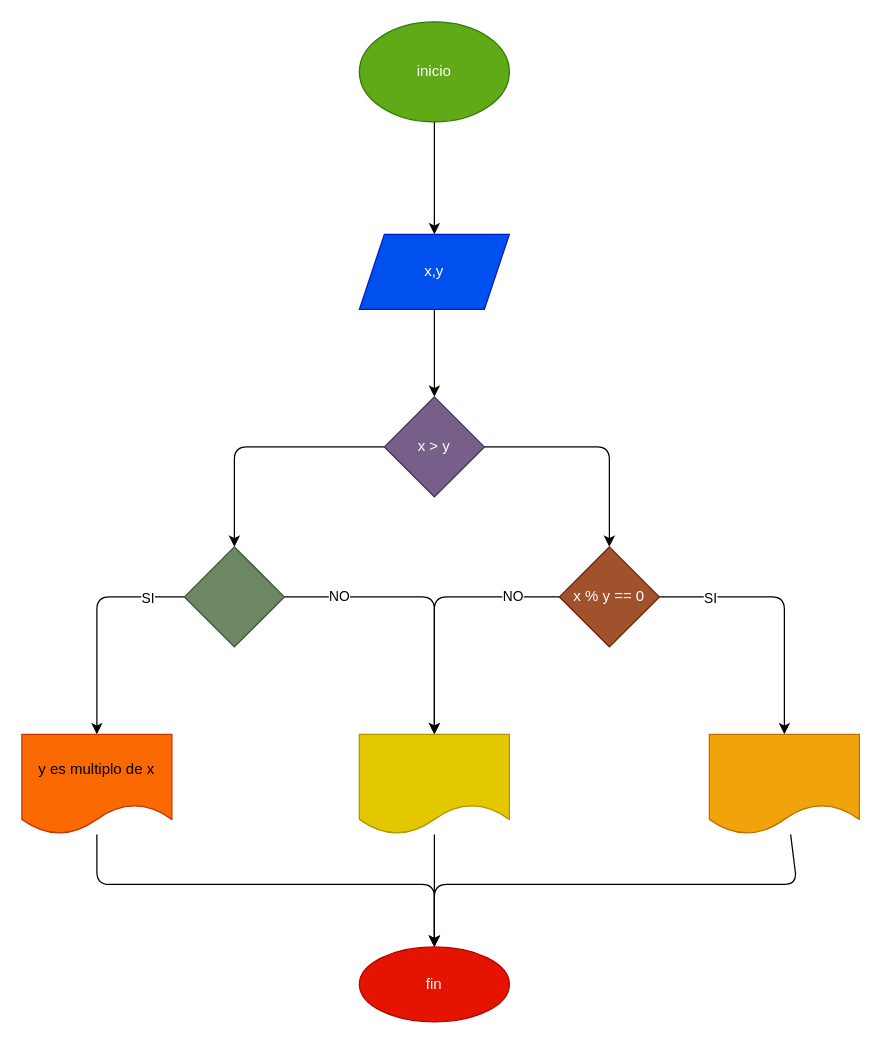
The diagram is 881 pixels wide and 1044 high, and some of its shapes have lost their labels. Each missing label, with the centre of its shape:
"no son multiplos" goes at (433,783).
"x es multiplo de y" goes at (783,783).
"y % == 0" goes at (233,596).
